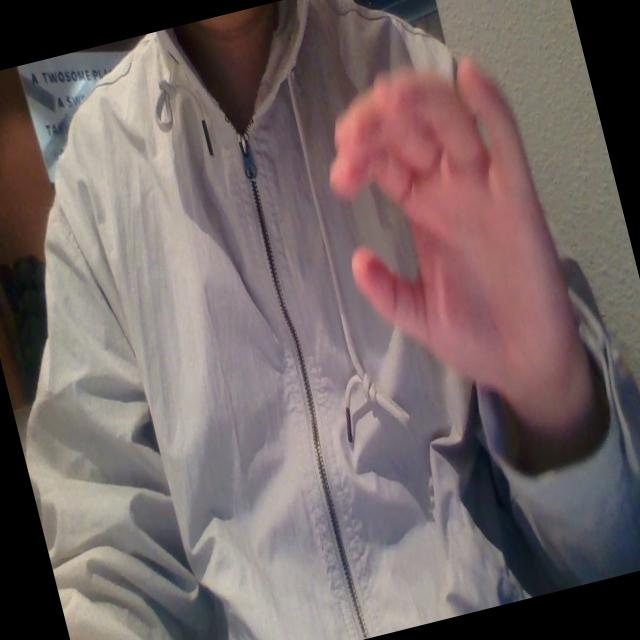hand: (305, 33, 610, 453)
